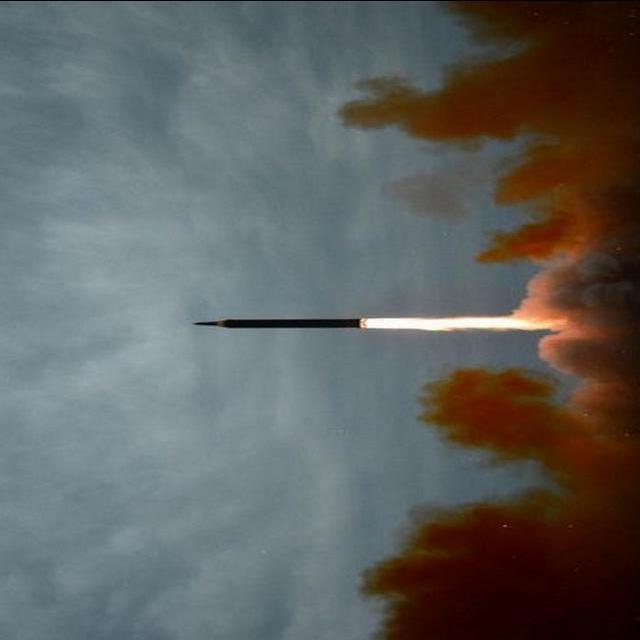missile: (190, 309, 363, 341)
